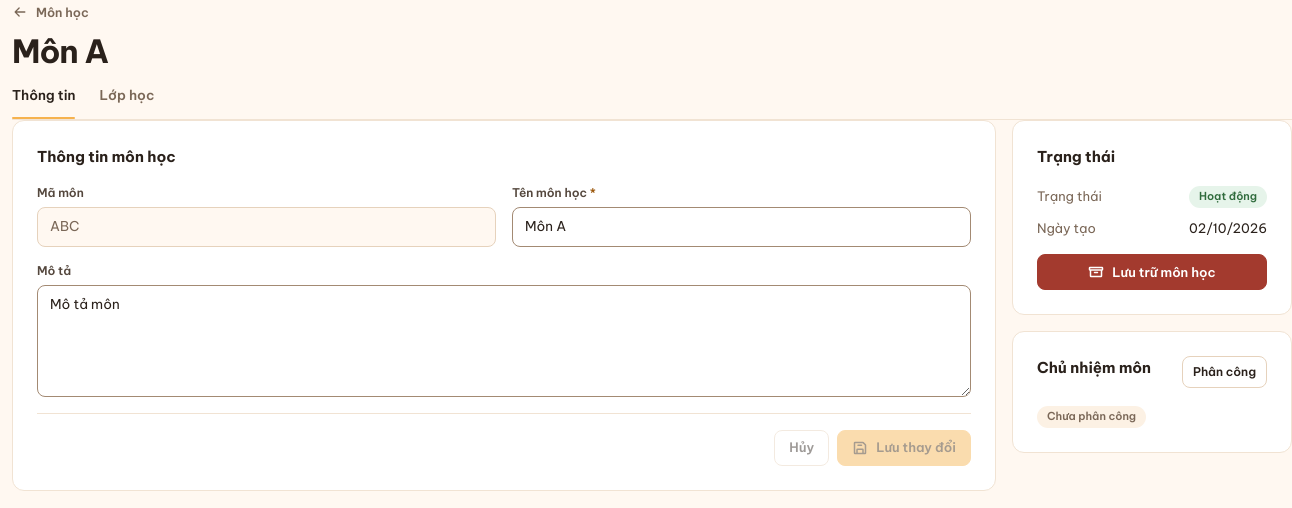
Test case: SubjectDetailPage › unavailable của provider có retry và khác verified empty
Expected: the text box showing "Mô tả môn" is shown, x1=37 y1=285 x2=971 y2=397
Step 1. Click the tab "Lớp học" → (127, 96), box x1=100 y1=73 x2=154 y2=119
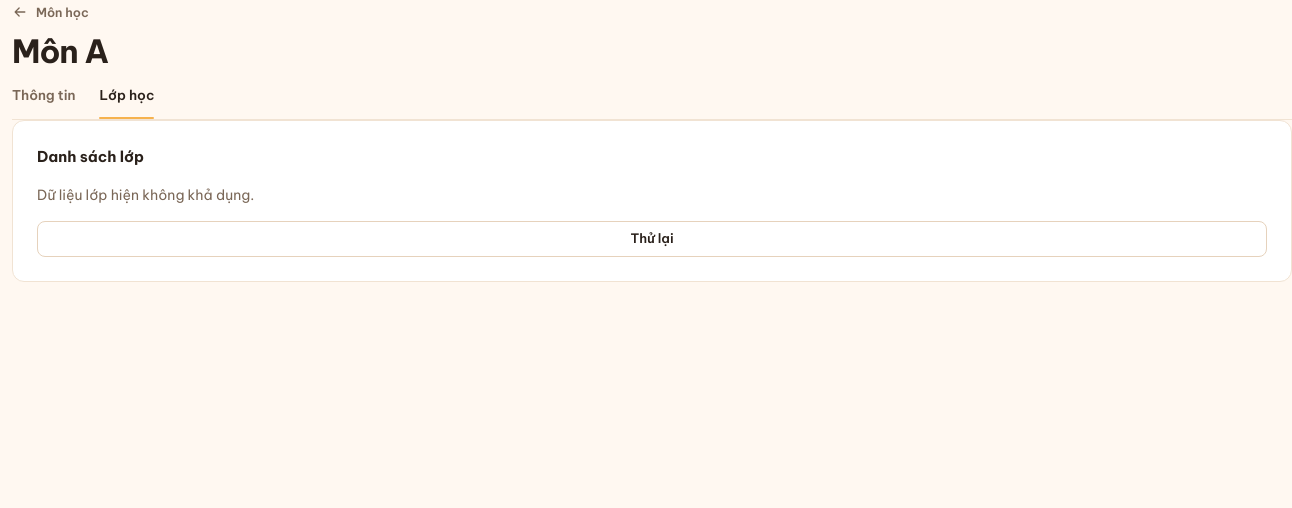
Expected: the text "Không có lớp phù hợp." is not shown
Expected: the text "Dữ liệu lớp hiện không khả dụng." is shown, x1=37 y1=186 x2=254 y2=204
Step 2. Click the button with test id "subjects-classes-retry" → (652, 239), box x1=37 y1=221 x2=1267 y2=257
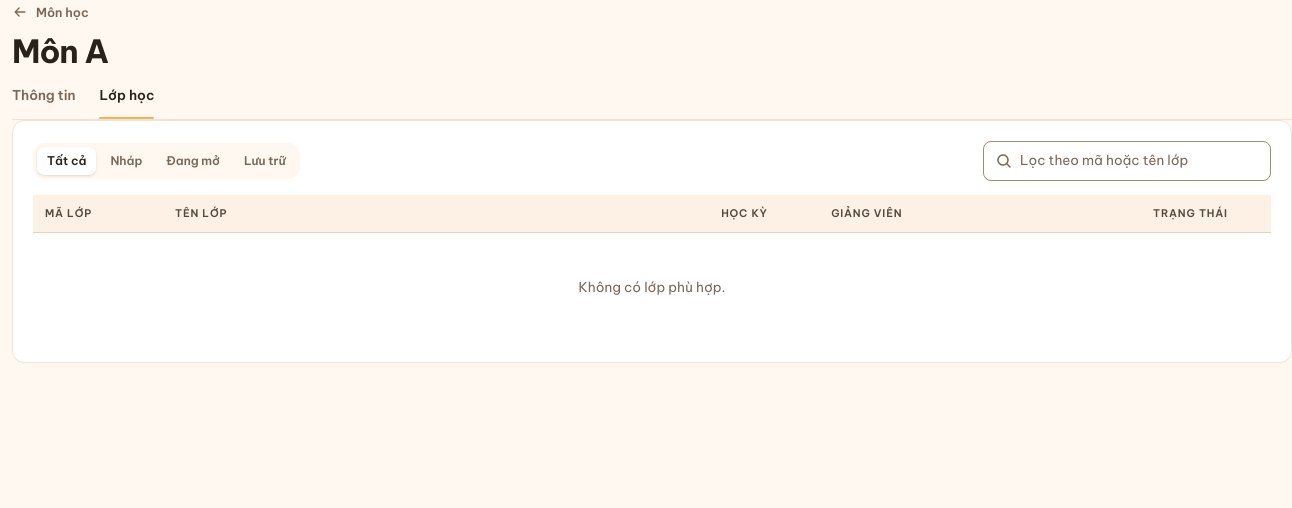
Expected: the text "Không có lớp phù hợp." is shown, x1=579 y1=278 x2=725 y2=296
